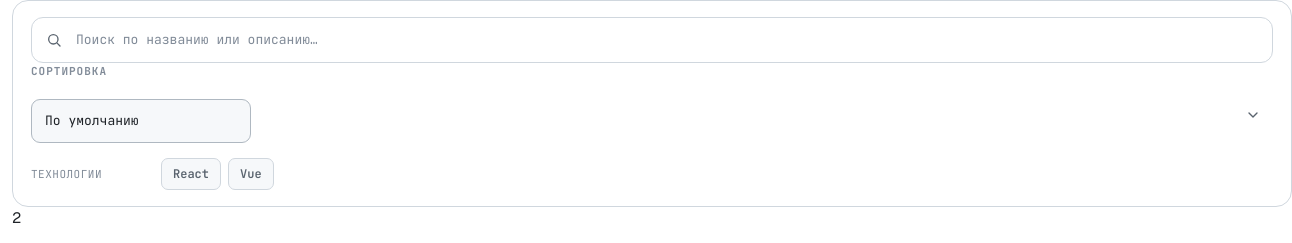
Test: ProjectFilterBar › фильтрует по поисковому запросу
The image size is (1292, 243).
Expected: the text with test id "count" reads "2", [12, 208, 21, 226]
In the search field: {"x": 666, "y": 40} [74, 29, 1258, 50], type "alpha"
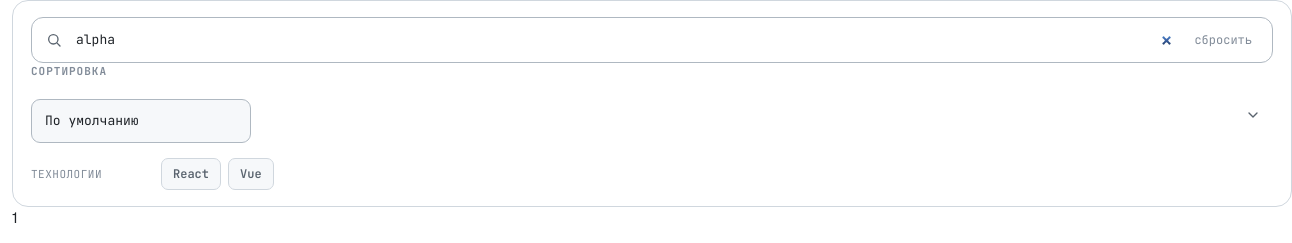
Expected: the text with test id "count" reads "1", [12, 208, 18, 226]
